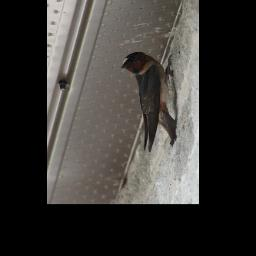Swallow: (121, 51, 179, 153)
